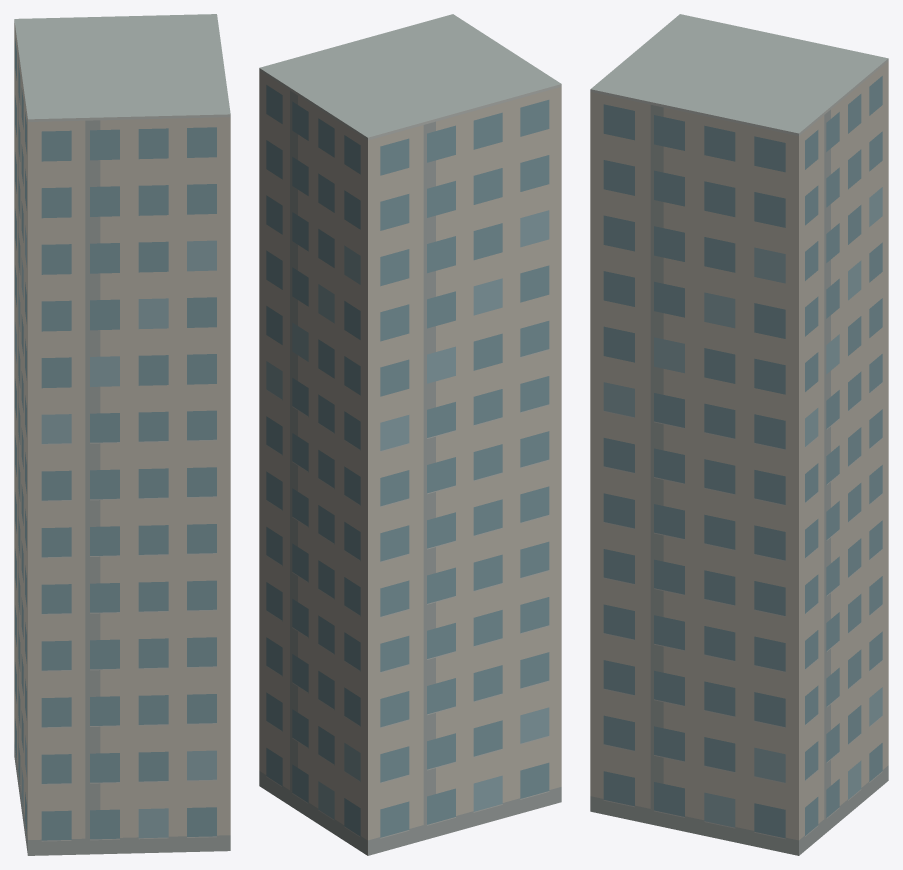
File: residential-20853acc-a5ae-4762-8c93-365bd2ce4393.glb
The picture shows the model from 3 angles, left to right: view 1: azimuth 30°, elevation 25°; view 2: azimuth 150°, elevation 25°; view 3: azimuth 270°, elevation 25°; orthographic projection. The views are drawn at different scales.
Visible parts, largest first — view 1: residential-20853acc-a5ae-4762-8c93-365bd2ce4393.tmp; view 2: residential-20853acc-a5ae-4762-8c93-365bd2ce4393.tmp; view 3: residential-20853acc-a5ae-4762-8c93-365bd2ce4393.tmp.
Boxes of the visible parts, x1,y1,x2,y2 form: residential-20853acc-a5ae-4762-8c93-365bd2ce4393.tmp: (14,14,230,855); residential-20853acc-a5ae-4762-8c93-365bd2ce4393.tmp: (259,14,561,855); residential-20853acc-a5ae-4762-8c93-365bd2ce4393.tmp: (590,14,888,855).
Size of the model in its own units: 23.07 by 65 by 24.31.
